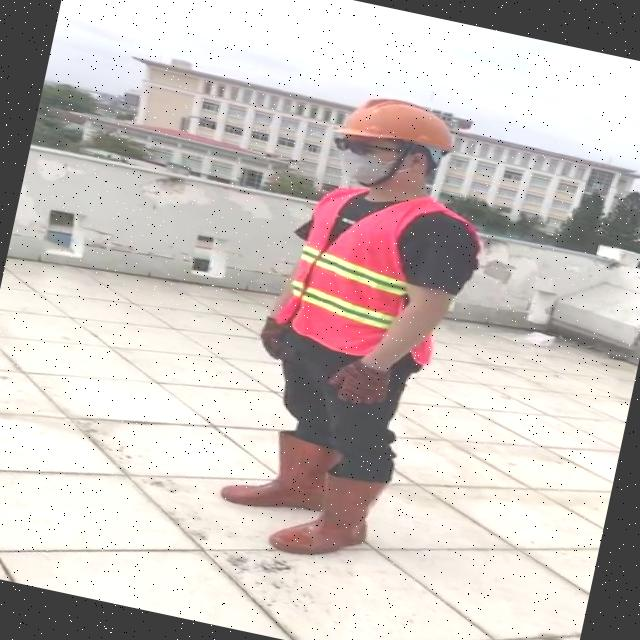boots: (266, 462, 389, 570), (217, 423, 341, 521)
